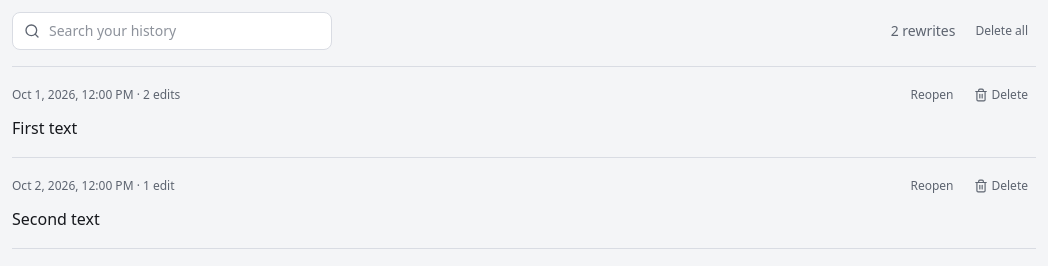
Test: HistoryList › says so when nothing matches
Type "zzz" into the search field.
click(172, 31); type("zzz")  # box x1=12 y1=12 x2=332 y2=50
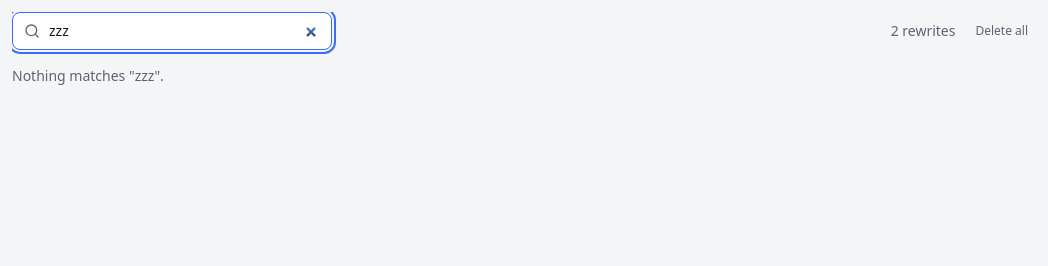
Check: the text "Nothing matches \"zzz\"." is shown, box x1=12 y1=66 x2=164 y2=85
